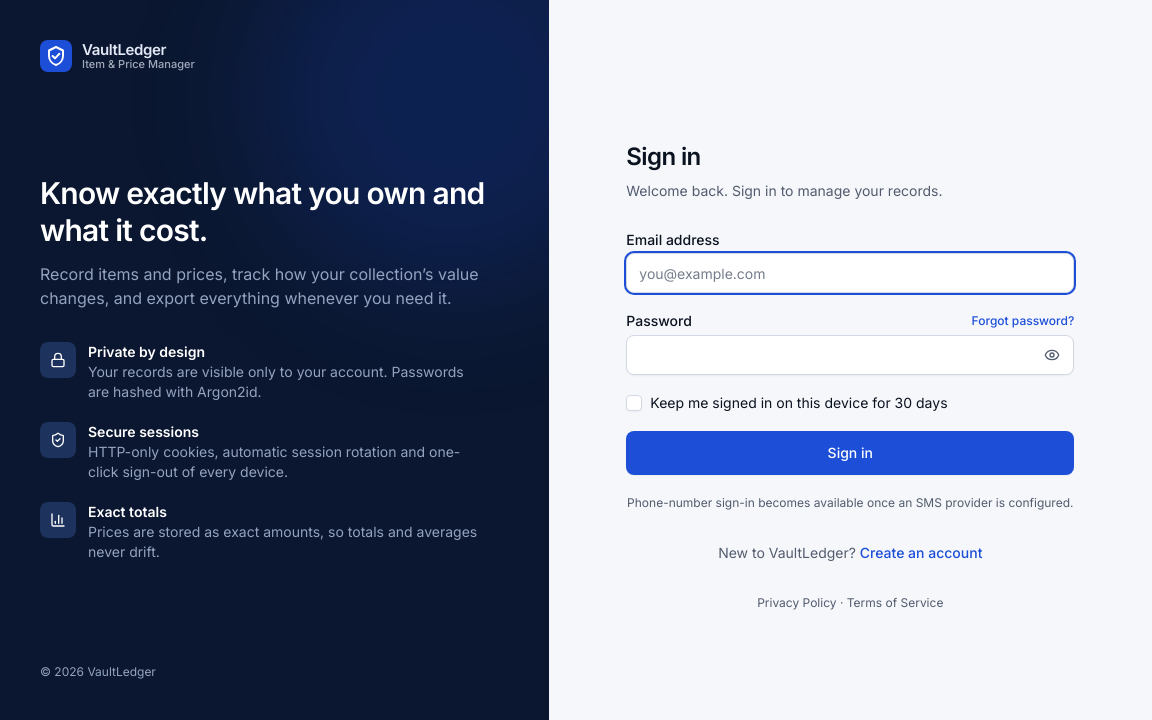
Test: LoginPage › sends the CSRF token and shows a generic error for bad credentials
Type "someone@example.com" into the field labelled "Email address" at (850, 273), box [626,253,1074,293]
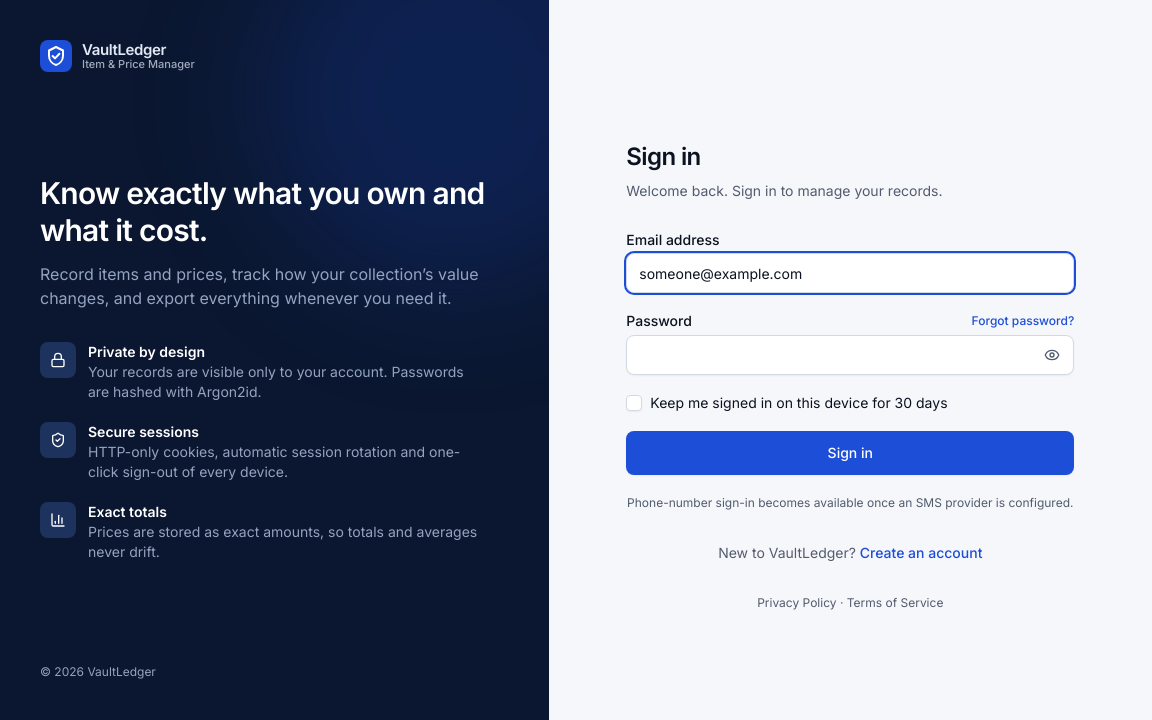
Type "wrong-password" into the password field labelled "Password" at (850, 355), box [626,335,1074,375]
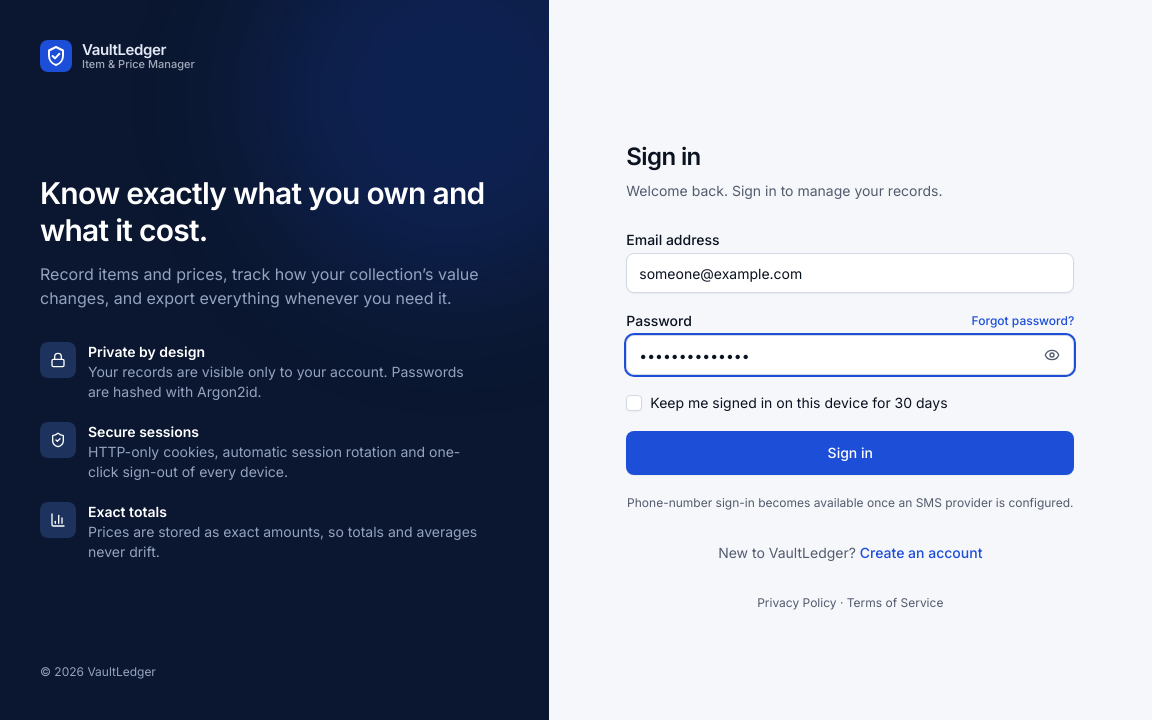
Click the button "Sign in" at (850, 453), box [626,431,1074,475]
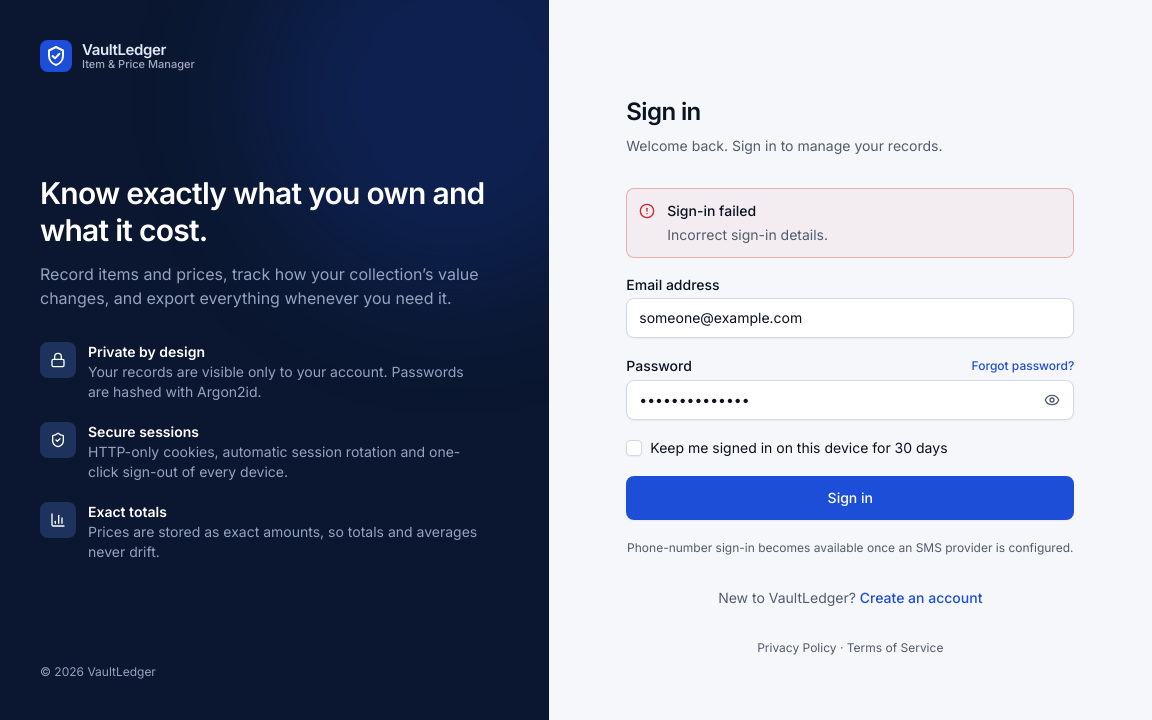
Expected: the text "Incorrect sign-in details." is shown, [667,226,828,243]
